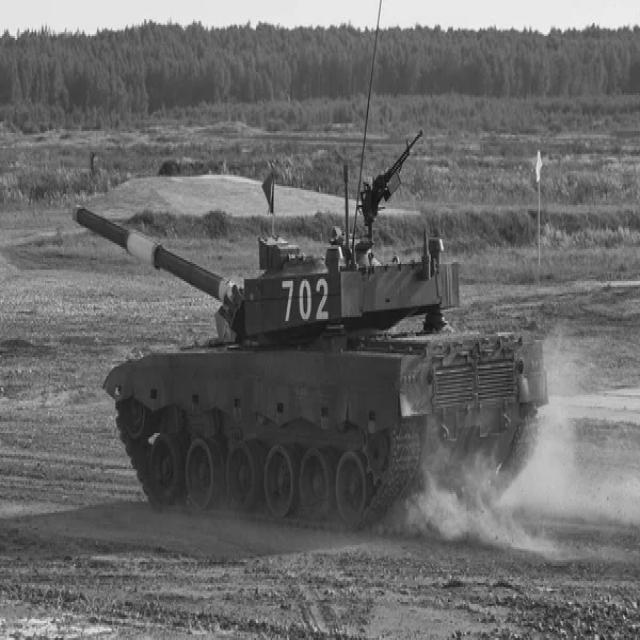Tank: (68, 144, 544, 553)
